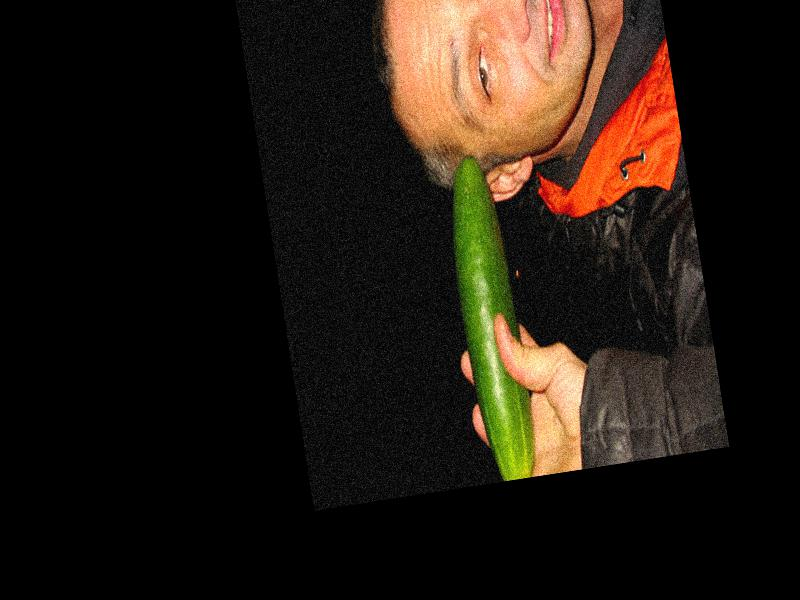Cucumber: (439, 150, 540, 481)
